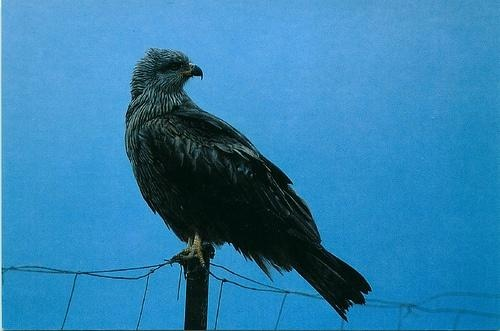bird: (123, 47, 373, 322)
